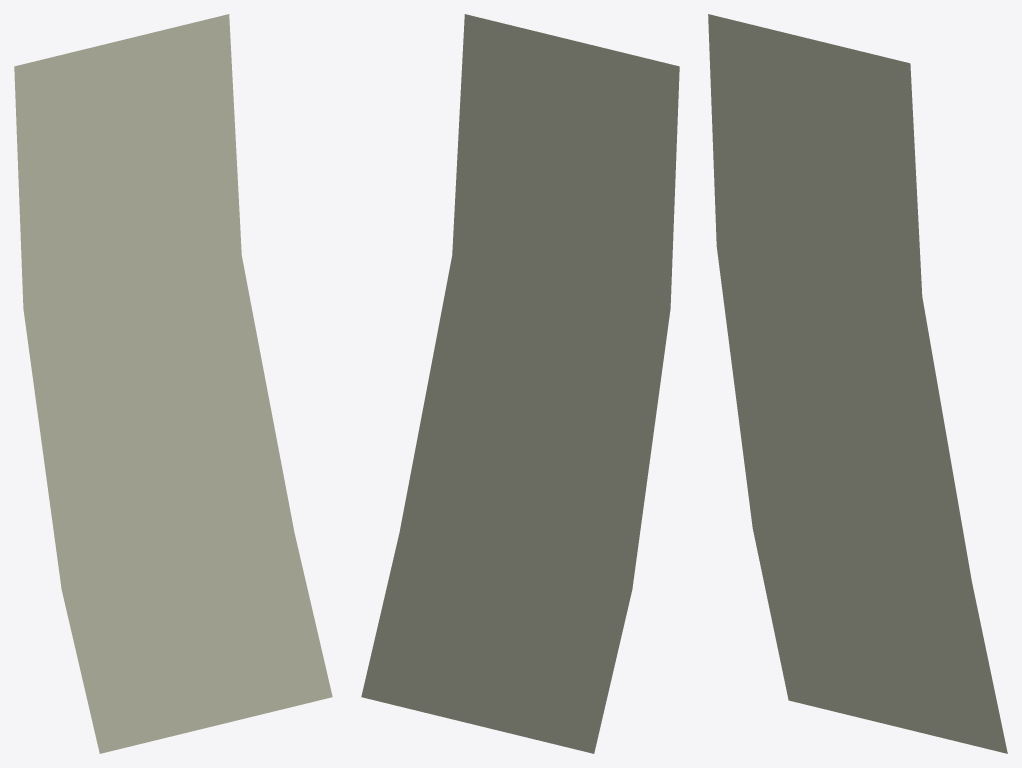
The model's file is Asian_Prop_Paper_Charm_01.FBX.
The picture shows the model from 3 angles, left to right: view 1: azimuth 30°, elevation 25°; view 2: azimuth 150°, elevation 25°; view 3: azimuth 330°, elevation 25°; orthographic projection. The views are drawn at different scales.
Parts seen in each view (by area): view 1: Asian_Prop_Paper_Charm_01; view 2: Asian_Prop_Paper_Charm_01; view 3: Asian_Prop_Paper_Charm_01.
Part boxes in pixels (<box>): Asian_Prop_Paper_Charm_01: <box>14,14,332,753</box>; Asian_Prop_Paper_Charm_01: <box>361,14,679,753</box>; Asian_Prop_Paper_Charm_01: <box>708,14,1007,753</box>.
Bounding box in the file's own units: 175 × 372 × 1.63e-05.
